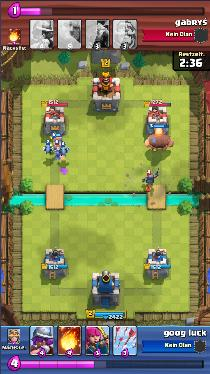ally_giant: (144, 127, 175, 151)
ally_minion: (42, 144, 53, 154), (59, 145, 69, 156)
ally_wallbreaker: (53, 143, 63, 161), (53, 137, 61, 149)
enemy_mini_pekka: (142, 173, 158, 185)
